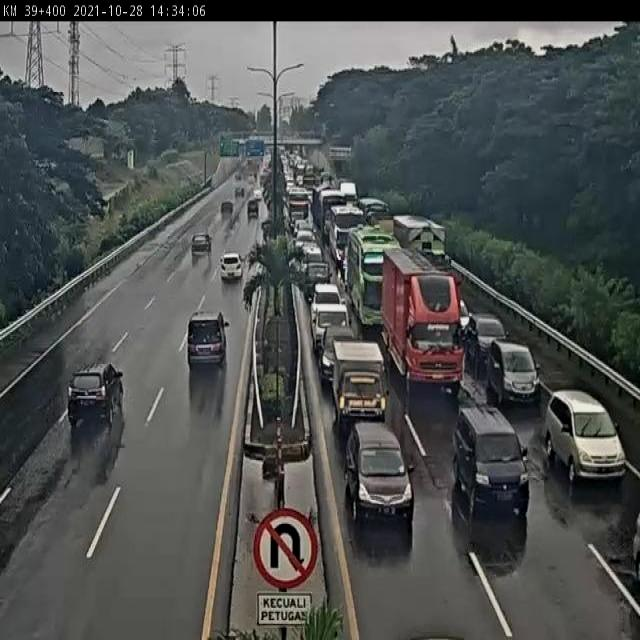Bus: (347, 228, 400, 323)
Car: (544, 391, 628, 482), (344, 422, 412, 523), (488, 340, 540, 408), (67, 362, 125, 422), (220, 252, 244, 283)
Truck: (382, 249, 464, 394), (332, 341, 388, 429)
Van: (456, 403, 528, 512), (186, 312, 229, 371)
